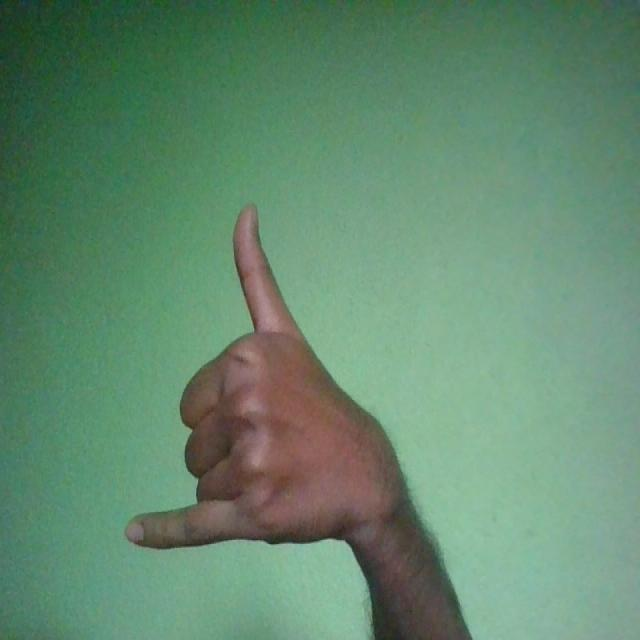Call Me: (124, 203, 414, 549)
